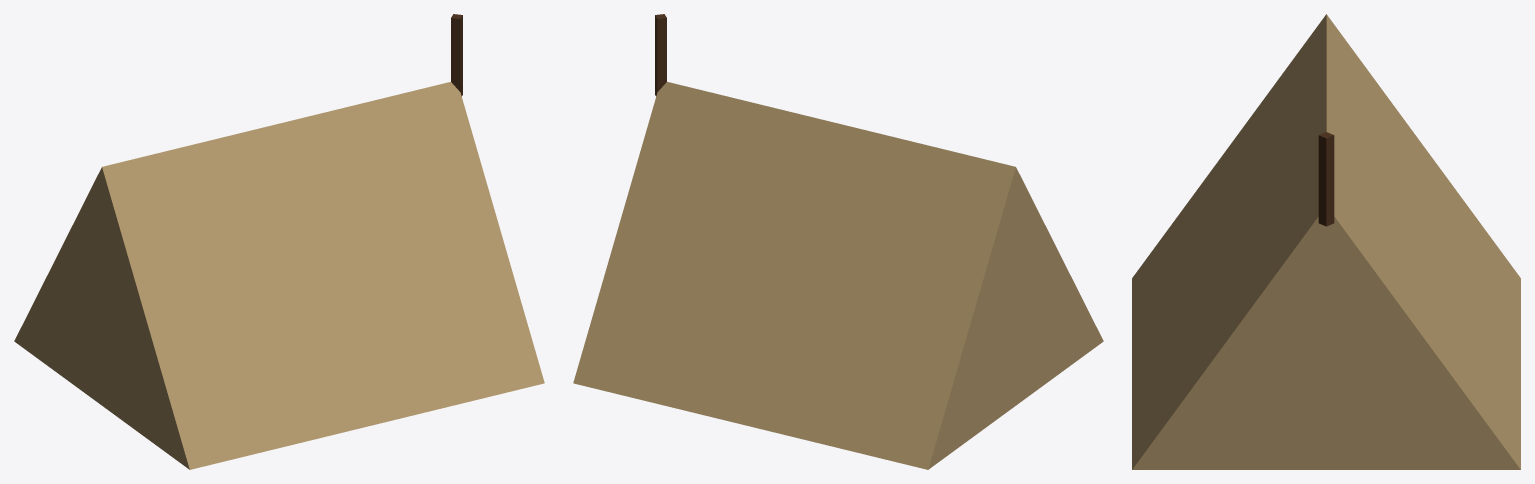
The model's file is tent.fbx.
3 renders of one model, left to right at view 1: azimuth 30°, elevation 25°; view 2: azimuth 150°, elevation 25°; view 3: azimuth 270°, elevation 25°, orthographic. The views are drawn at different scales.
Parts seen in each view (by area): view 1: tent; view 2: tent; view 3: tent.
Part boxes in pixels (x1,y1,x2,y2): tent: (14,14,544,469); tent: (573,14,1103,469); tent: (1132,14,1520,469).
Size of the model in its own units: 0.712 by 0.57 by 0.6.
